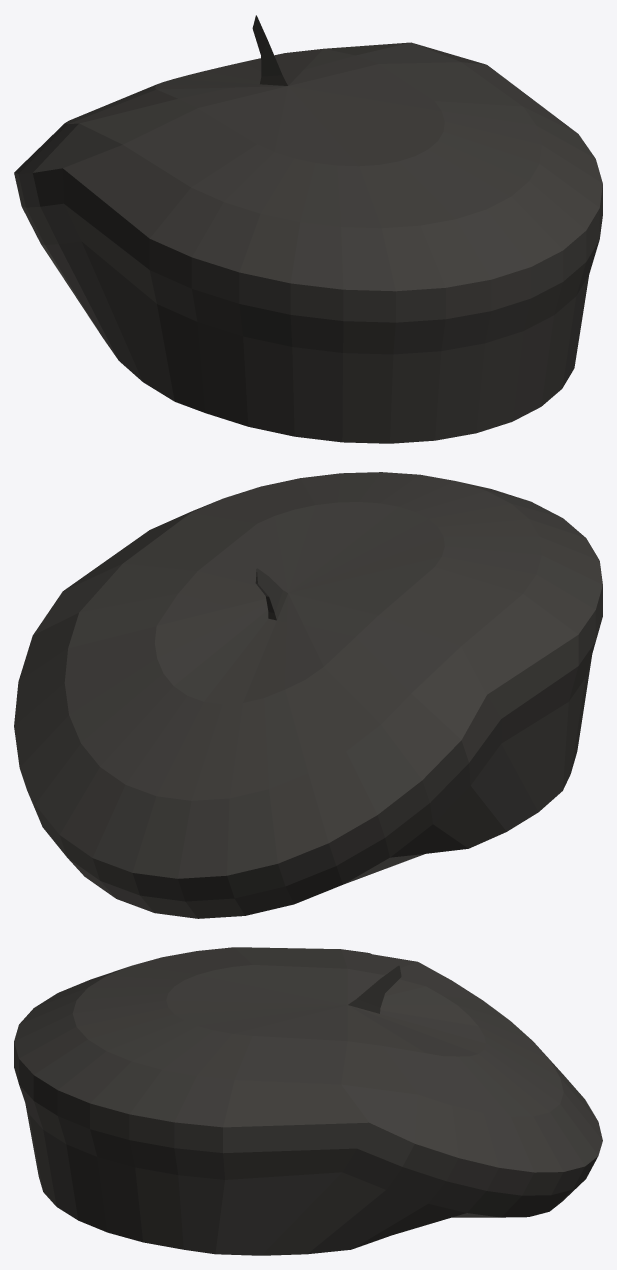
Rendered from Beret.fbx.
3 views of the same model, one above another, from view 1: azimuth 30°, elevation 25°; view 2: azimuth 150°, elevation 25°; view 3: azimuth 270°, elevation 25° (orthographic). The views are drawn at different scales.
Parts seen in each view (by area): view 1: Cylinder; view 2: Cylinder; view 3: Cylinder.
Part boxes in pixels (x1,y1,x2,y2): Cylinder: (14,15,602,443); Cylinder: (14,472,602,918); Cylinder: (14,947,602,1255).
Bounding box in the file's own units: 106 × 62.81 × 151.
Materials: 1 (1 with a texture image).
